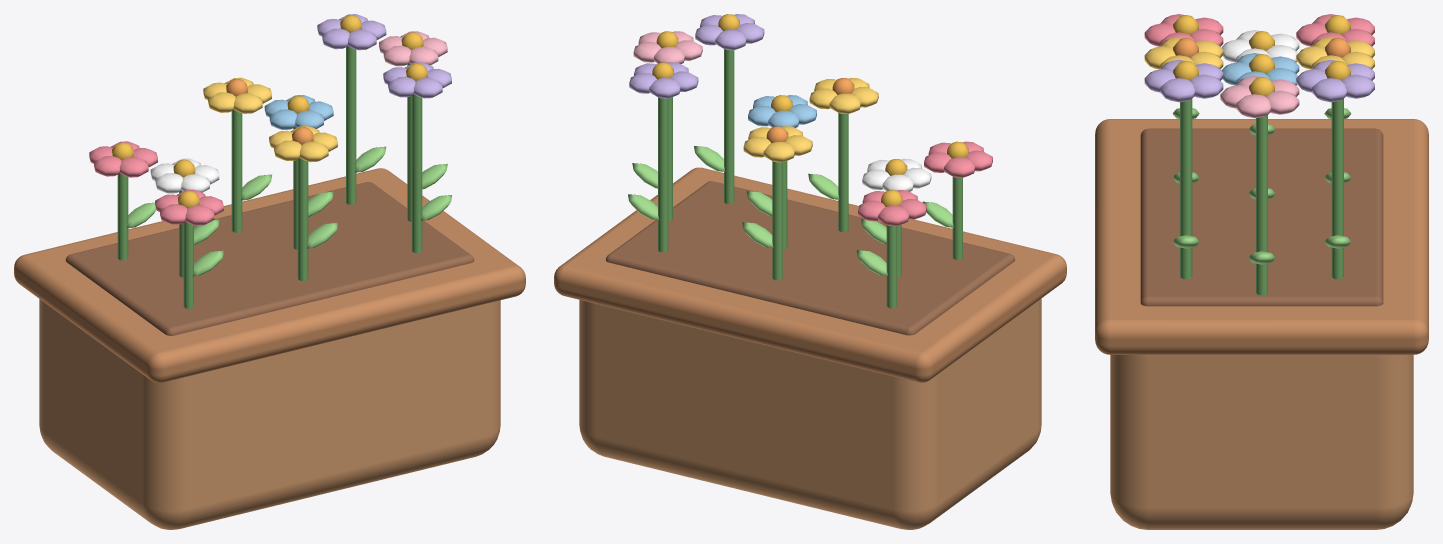
Rendered from flower_tub.glb.
3 views of the same model, side by side, from view 1: azimuth 30°, elevation 25°; view 2: azimuth 150°, elevation 25°; view 3: azimuth 270°, elevation 25° (orthographic). The views are drawn at different scales.
Visible parts, largest first — view 1: FlowerTub; view 2: FlowerTub; view 3: FlowerTub.
Part boxes in pixels (<box>): FlowerTub: <box>14,14,525,529</box>; FlowerTub: <box>554,14,1066,529</box>; FlowerTub: <box>1095,14,1428,529</box>.
Bounding box in the file's own units: 0.66 × 0.648 × 0.44.
